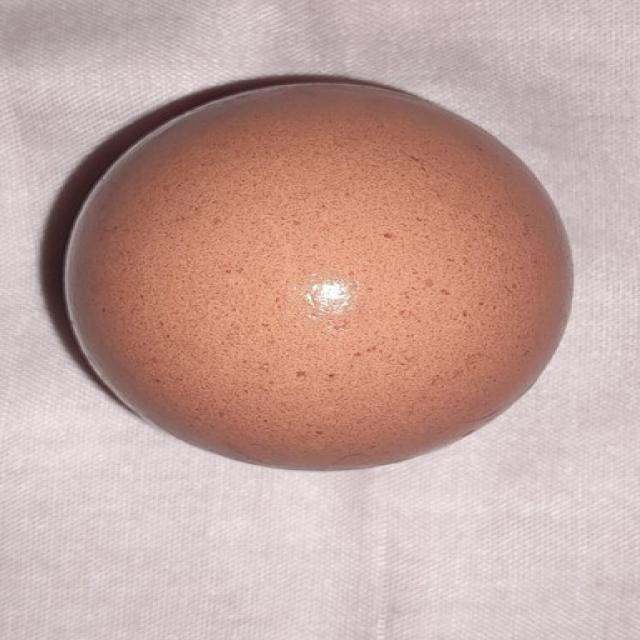unfresh: (63, 73, 568, 474)
